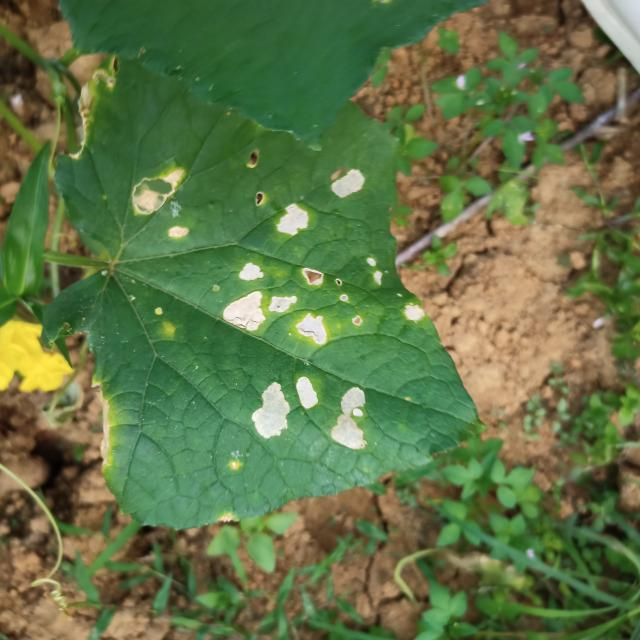disease_cucumber: (222, 258, 329, 351), (251, 376, 320, 440), (130, 170, 192, 240), (330, 385, 370, 454), (327, 166, 366, 204), (276, 203, 310, 235), (399, 302, 426, 324), (366, 256, 383, 286)
